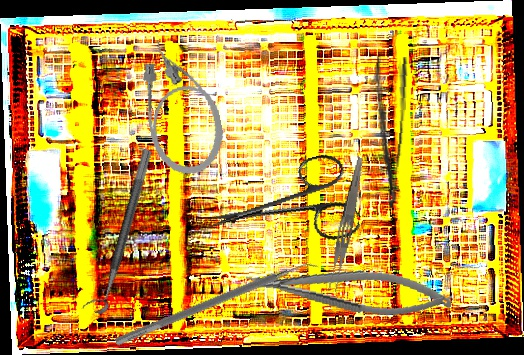Cannula: (133, 31, 230, 180)
Dressing Forceps: (362, 54, 411, 210), (325, 155, 366, 294)
Fixation Ring: (81, 144, 154, 316)
Iris Scissors: (198, 150, 362, 267)
Needle Holder: (243, 253, 454, 326)
Spatula Surgical: (114, 253, 321, 355)
